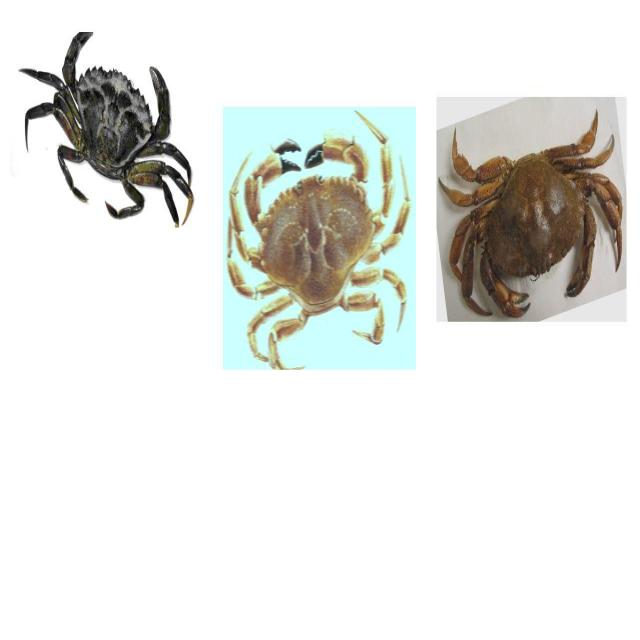egc: (18, 29, 195, 228)
